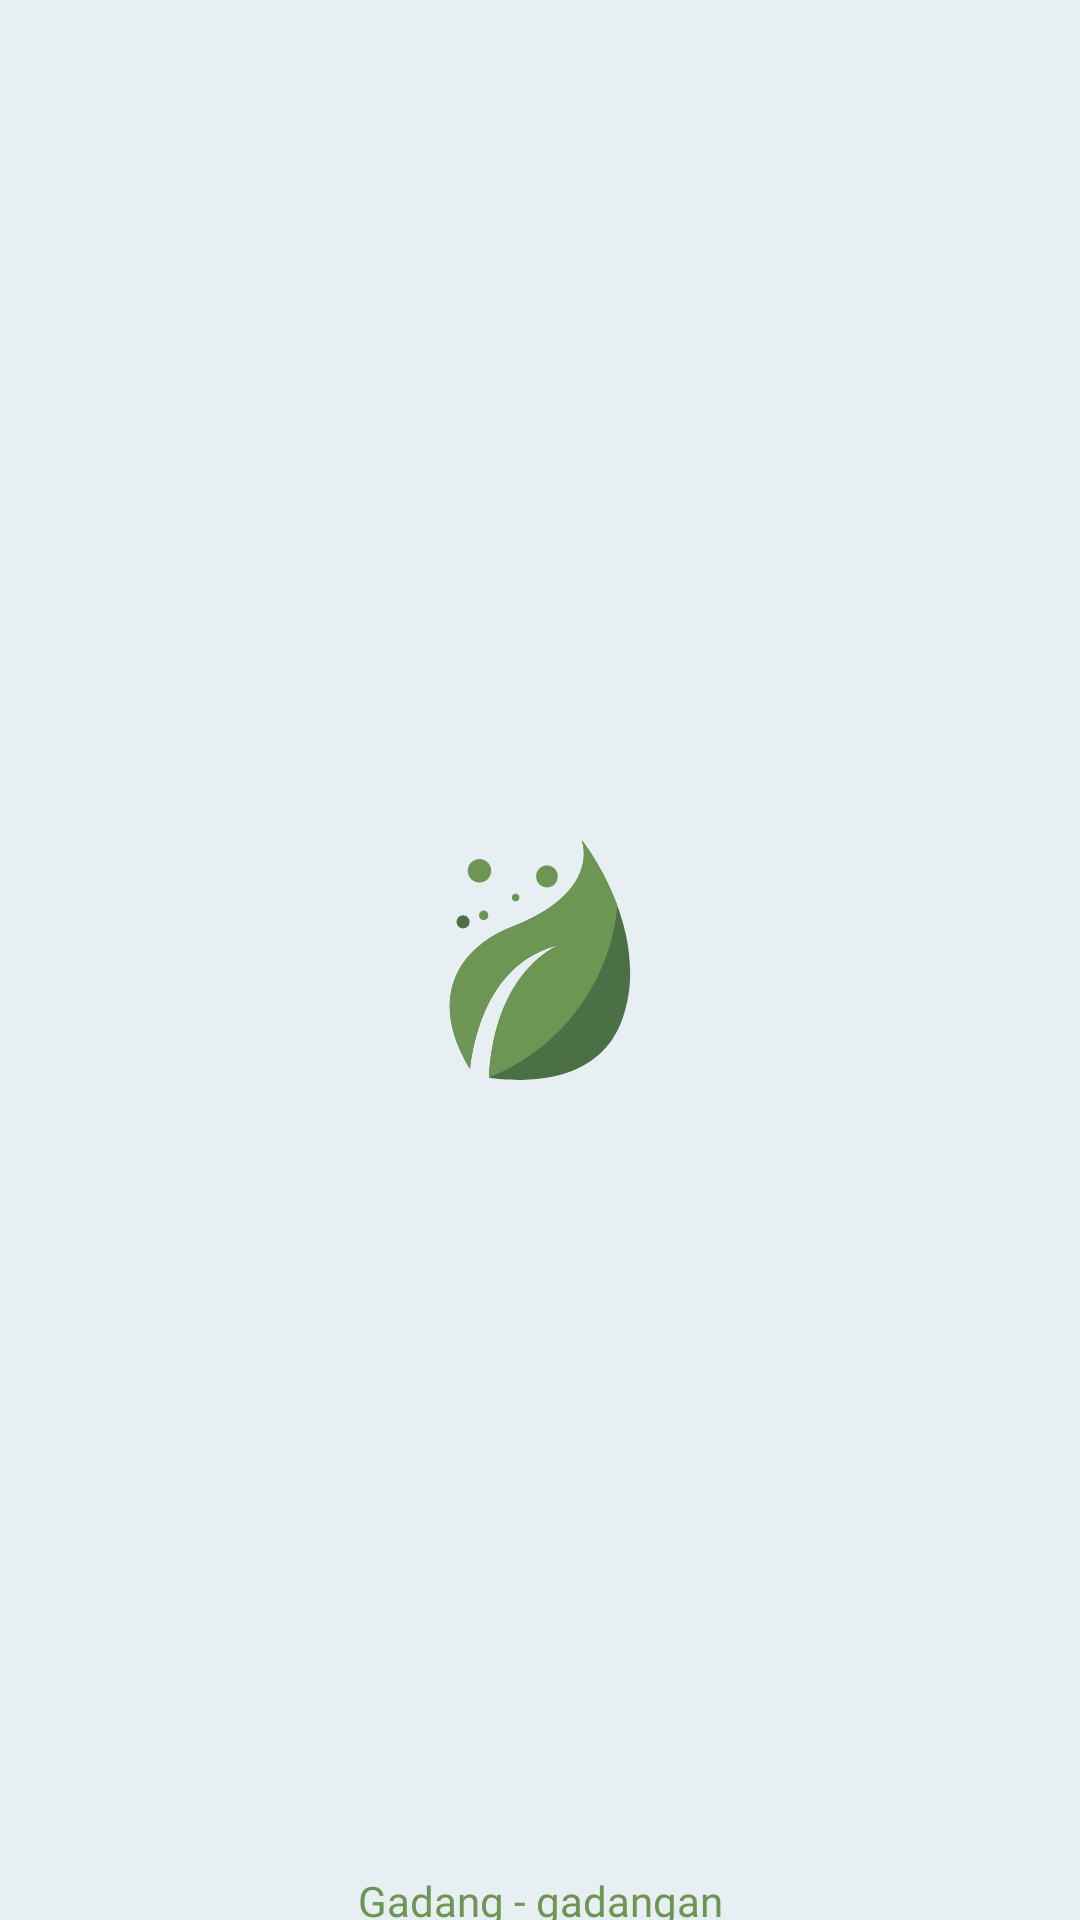

Point at icon controls on the screen. Image size 1080w x 1920h, points as [x,y].
leaves: [540,960]
